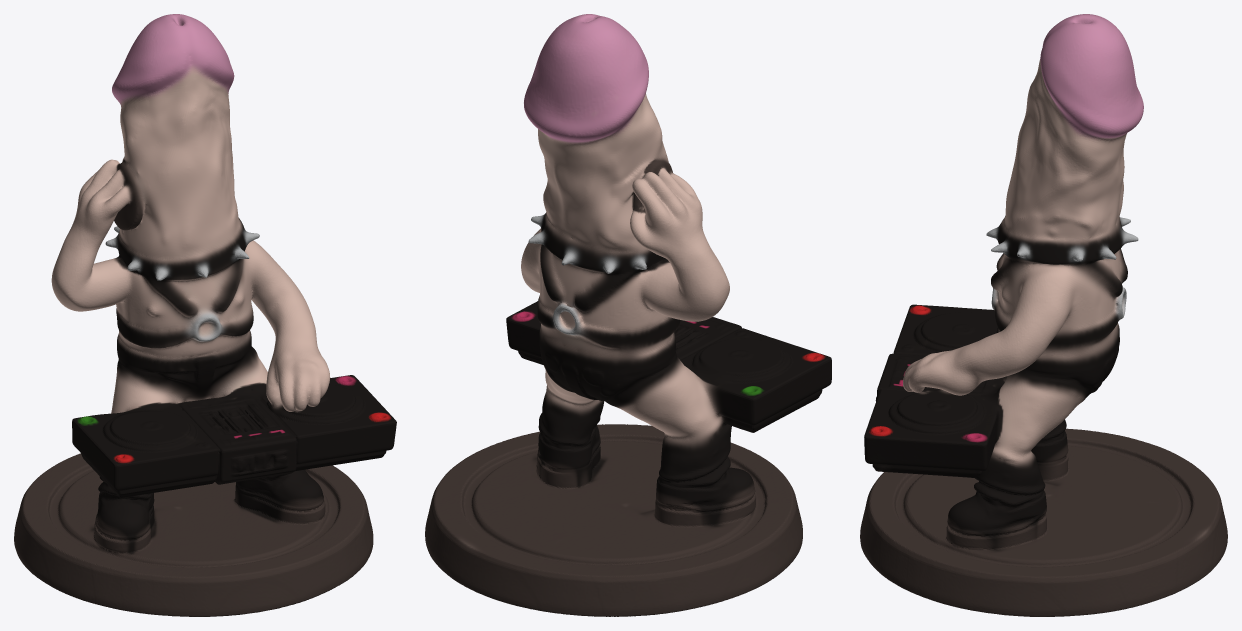
The model's file is kinkdick.glb.
The picture shows the model from 3 angles, left to right: view 1: azimuth 30°, elevation 25°; view 2: azimuth 150°, elevation 25°; view 3: azimuth 270°, elevation 25°; orthographic projection. The views are drawn at different scales.
Parts seen in each view (by area): view 1: tripo_node_2a2062c8-4671-42ae-8727-96154d185da 4; view 2: tripo_node_2a2062c8-4671-42ae-8727-96154d185da 4; view 3: tripo_node_2a2062c8-4671-42ae-8727-96154d185da 4.
Part boxes in pixels (x1=…): tripo_node_2a2062c8-4671-42ae-8727-96154d185da 4: x1=14, y1=14, x2=396, y2=616; tripo_node_2a2062c8-4671-42ae-8727-96154d185da 4: x1=425, y1=14, x2=831, y2=616; tripo_node_2a2062c8-4671-42ae-8727-96154d185da 4: x1=860, y1=14, x2=1227, y2=616.
Size of the model in its own units: 0.695 by 1.09 by 0.6936.
